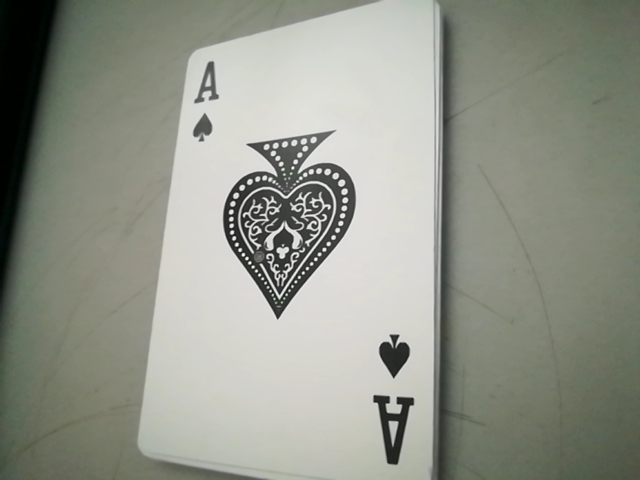ht a: (369, 328, 413, 466), (177, 59, 229, 152)
